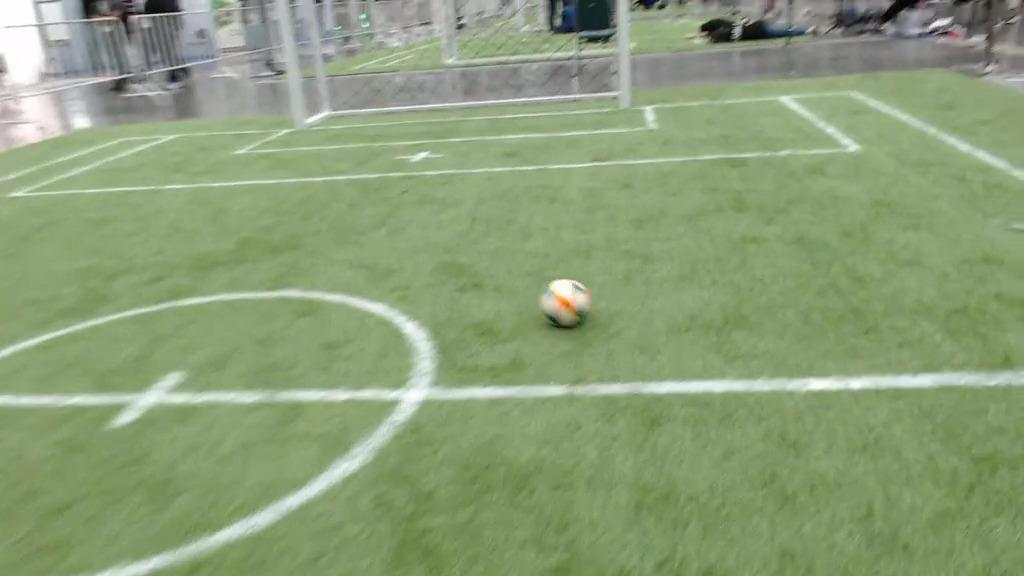ball: (539, 279, 590, 329)
